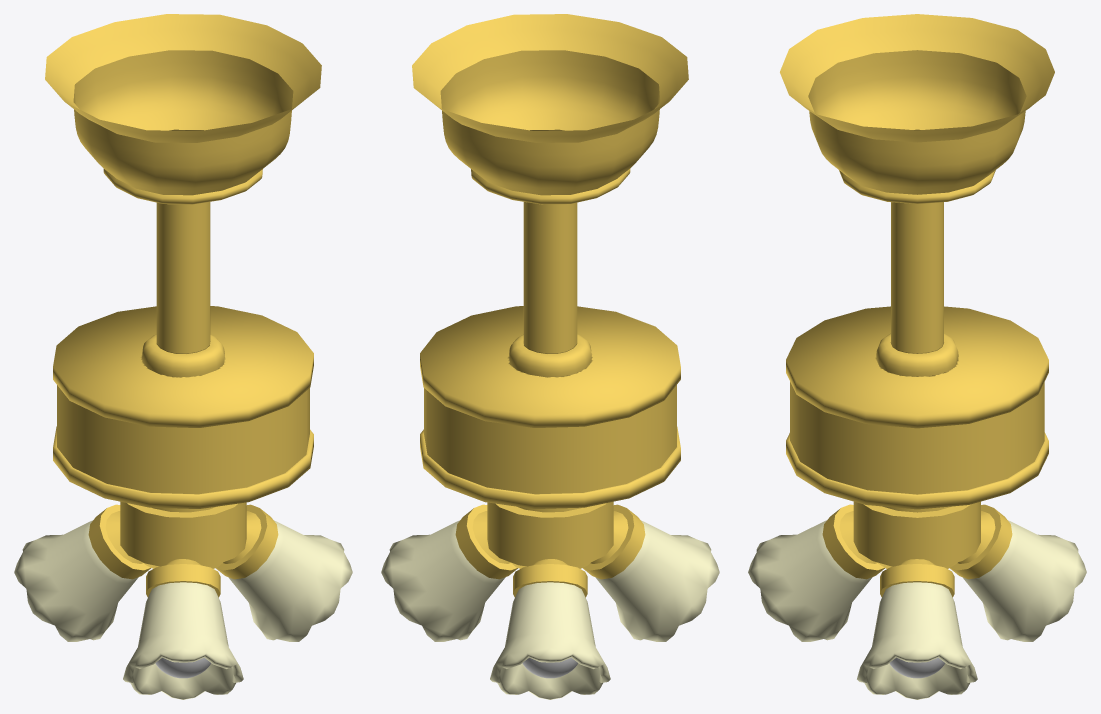
Rendered from CeilingFan.fbx.
3 renders of one model, left to right at view 1: azimuth 30°, elevation 25°; view 2: azimuth 150°, elevation 25°; view 3: azimuth 270°, elevation 25°, orthographic.
Parts seen in each view (by area): view 1: CeilingFan, Lights.001, Lights, Sphere; view 2: CeilingFan, Lights.001, Lights, Sphere; view 3: CeilingFan, Lights.001, Lights, Sphere.
Part boxes in pixels (left/top/right/bottom): CeilingFan: left=45, top=14, right=321, bottom=568; Lights.001: left=14, top=520, right=352, bottom=699; Lights: left=88, top=504, right=278, bottom=597; Sphere: left=155, top=657, right=210, bottom=678; CeilingFan: left=412, top=14, right=688, bottom=568; Lights.001: left=381, top=520, right=719, bottom=699; Lights: left=455, top=504, right=645, bottom=597; Sphere: left=522, top=657, right=577, bottom=678; CeilingFan: left=780, top=14, right=1054, bottom=568; Lights.001: left=748, top=520, right=1086, bottom=699; Lights: left=822, top=504, right=1012, bottom=597; Sphere: left=889, top=657, right=944, bottom=678.
Size of the model in its own units: 220 by 447 by 234.
2 materials, 1 textured.
